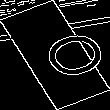O_SW: (13, 24, 97, 86)
